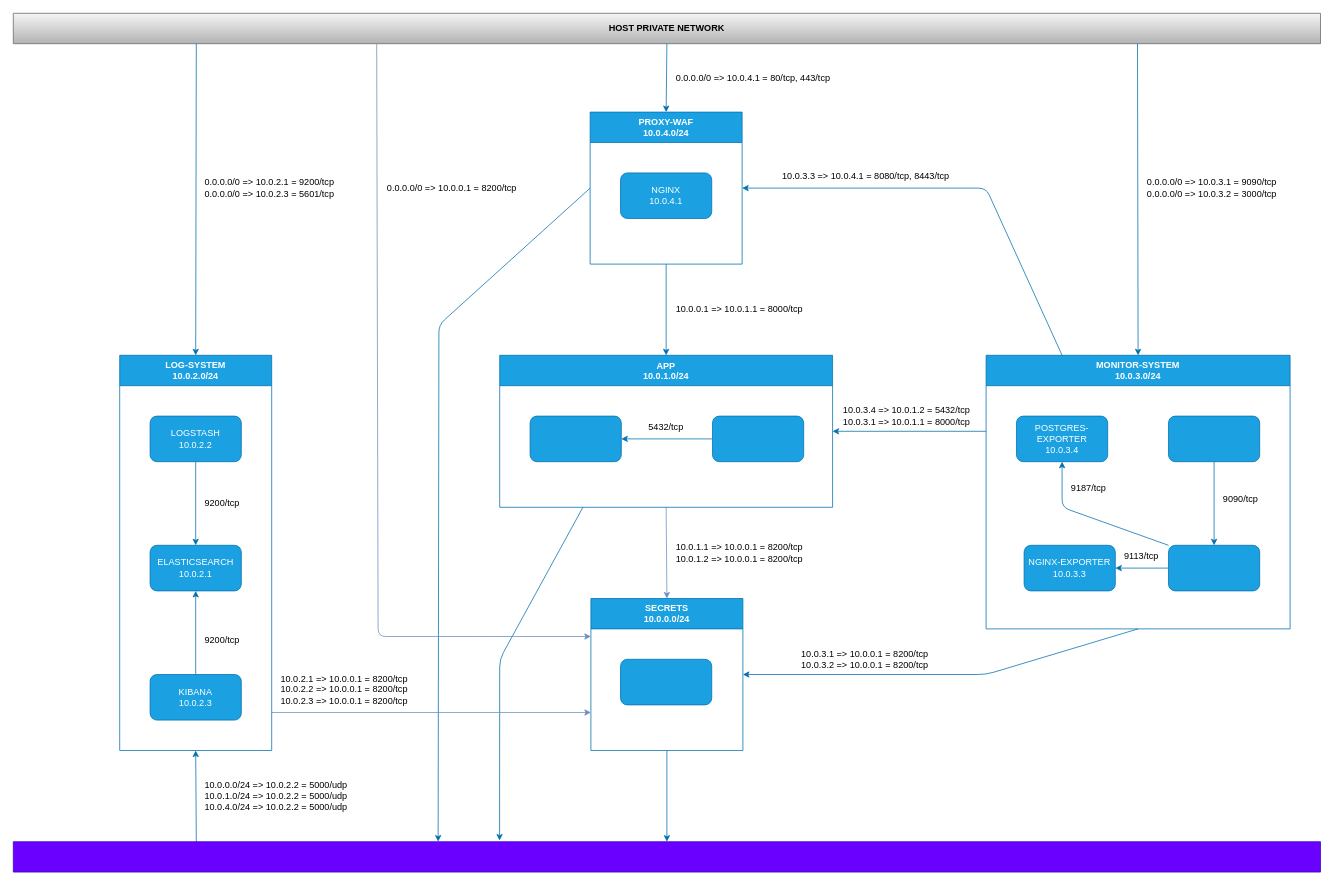
Some shapes in this 1334 by 885 pixel diagram are drawn without their labels. The shapes that lost their labels are listed below. From the top down, each one's centre as x and y in pixels, then its label:
At (x=575, y=438): "POSTGRES 10.0.1.2".
At (x=758, y=438): "DJANGO 10.0.1.1".
At (x=1214, y=438): "GRAFANA 10.0.3.2".
At (x=1214, y=568): "PROMETHEUS 10.0.3.1".
At (x=666, y=682): "VAULT 10.0.0.1".
At (x=666, y=856): "DOCKER ENGINE".
